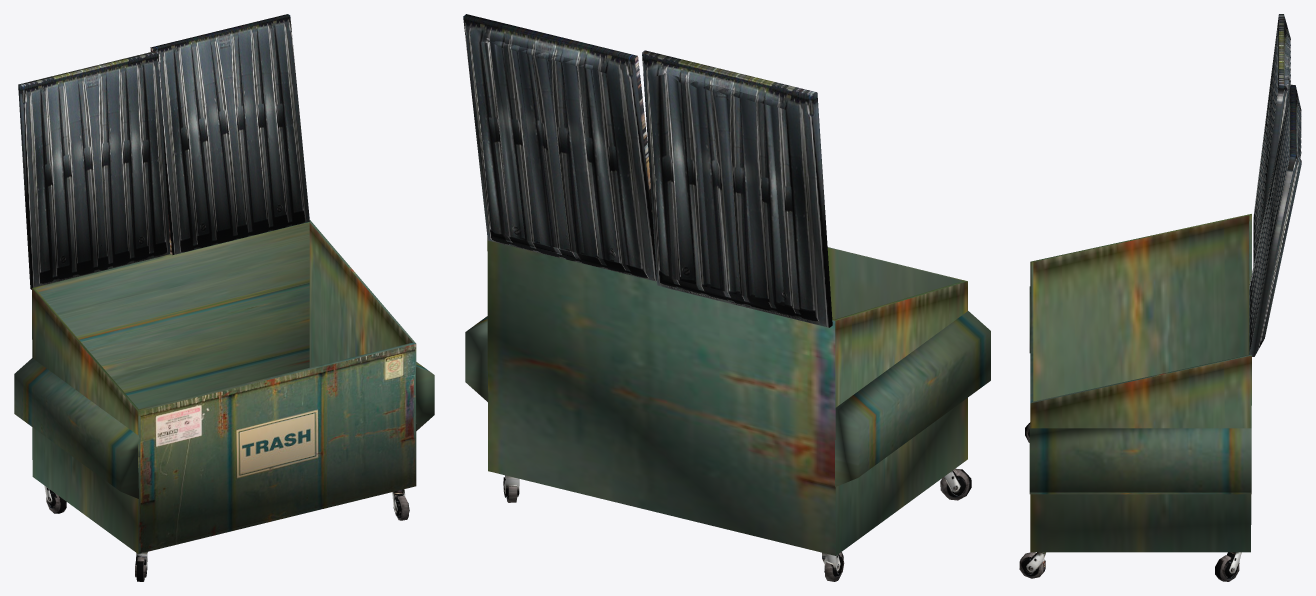
The model's file is dumpster_500.fbx.
The picture shows the model from 3 angles, left to right: view 1: azimuth 30°, elevation 25°; view 2: azimuth 150°, elevation 25°; view 3: azimuth 270°, elevation 25°; orthographic projection. The views are drawn at different scales.
Parts seen in each view (by area): view 1: box0, doora0, doorb0, NoName_9, wheels0, bolsters0; view 2: box0, doora0, doorb0, NoName_9, wheels0, bolsters0; view 3: box0, bolsters0, doorb0, doora0, wheels0.
Boxes of the visible parts, x1,y1,x2,y2 form: box0: [32, 220, 416, 553]; doora0: [18, 51, 170, 289]; doorb0: [150, 14, 309, 255]; NoName_9: [14, 358, 138, 498]; wheels0: [44, 485, 409, 581]; bolsters0: [416, 362, 434, 431]; box0: [487, 238, 967, 555]; doora0: [642, 50, 832, 327]; doorb0: [463, 14, 656, 281]; NoName_9: [835, 311, 990, 486]; wheels0: [503, 468, 971, 581]; bolsters0: [465, 316, 488, 402]; box0: [1030, 214, 1251, 552]; bolsters0: [1029, 428, 1251, 494]; doorb0: [1249, 84, 1301, 356]; doora0: [1253, 14, 1290, 265]; wheels0: [1019, 422, 1241, 581].
Size of the model in its own units: 3.56 by 4.45 by 2.65.
